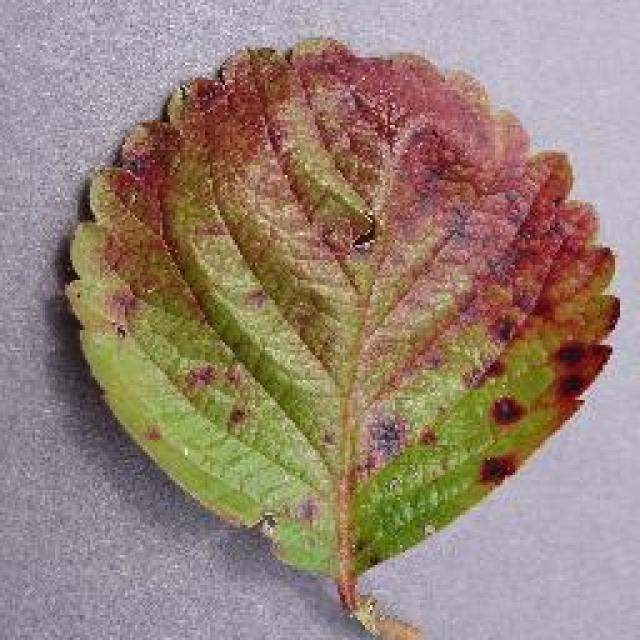Strawberry leaf scorch: (152, 130, 552, 427)
